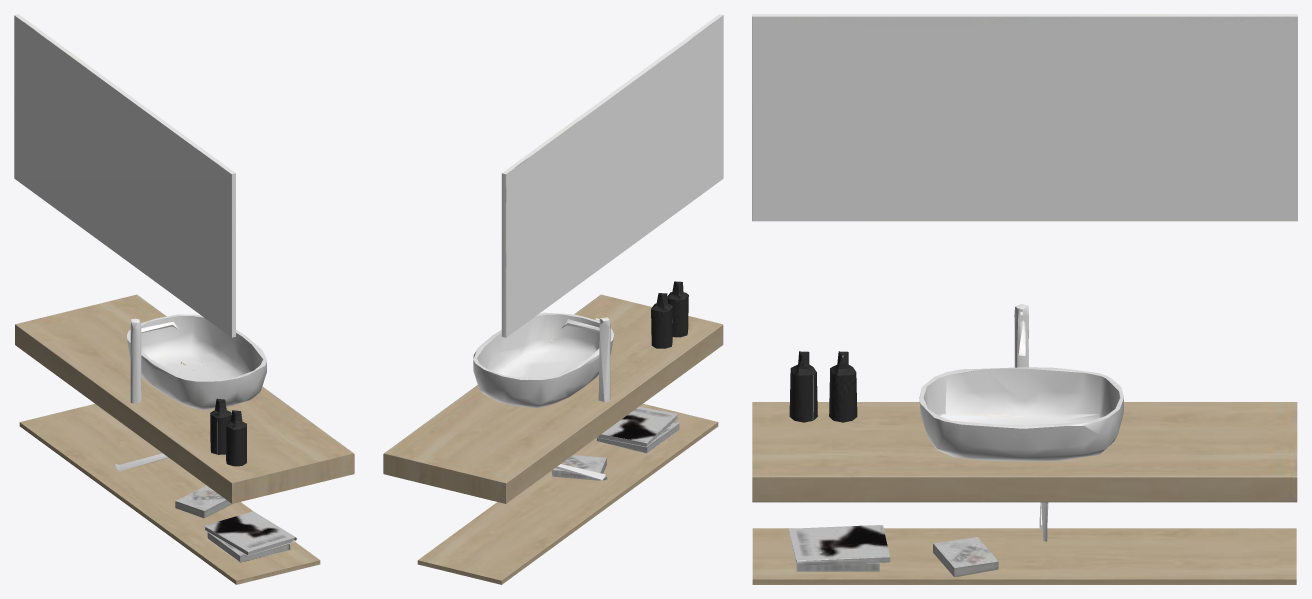
The model's file is Wallwash0001.obj.
3 views of the same model, side by side, from view 1: azimuth 30°, elevation 25°; view 2: azimuth 150°, elevation 25°; view 3: azimuth 270°, elevation 25° (orthographic). The views are drawn at different scales.
Size of the model in its own units: 0.523 by 1.67 by 1.6.
Materials: 1 (1 with a texture image).
